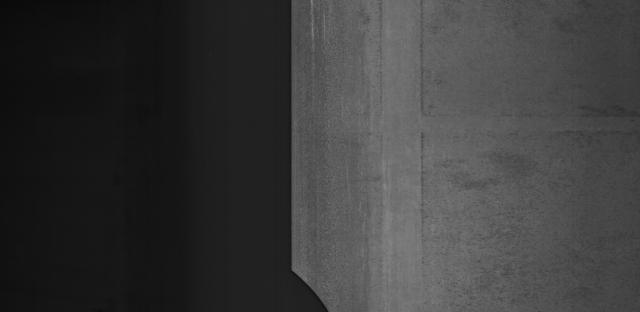crescent_gap: (282, 263, 350, 312)
